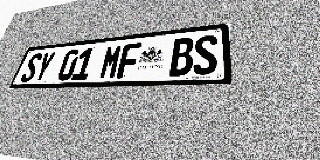0: (56, 49, 81, 81)
1: (71, 47, 96, 80)
B: (169, 37, 194, 76)
F: (116, 42, 142, 79)
M: (98, 44, 123, 79)
S: (193, 34, 218, 75), (19, 53, 44, 82)
Y: (32, 51, 56, 82)
